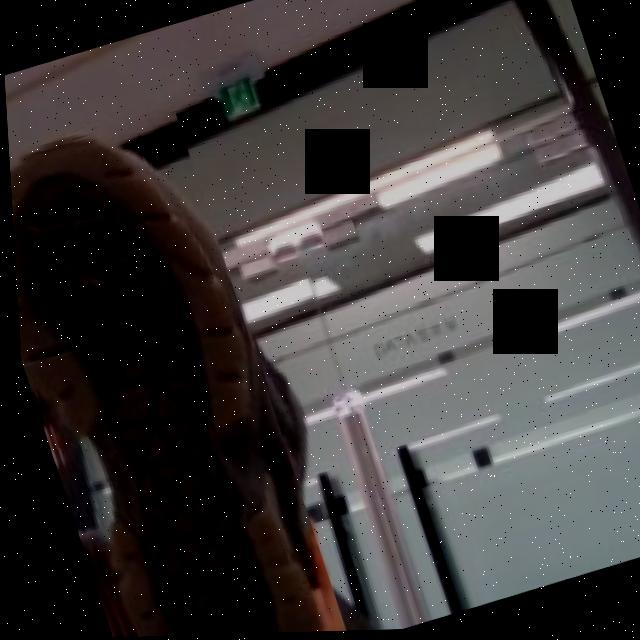shoe: (5, 103, 342, 640)
